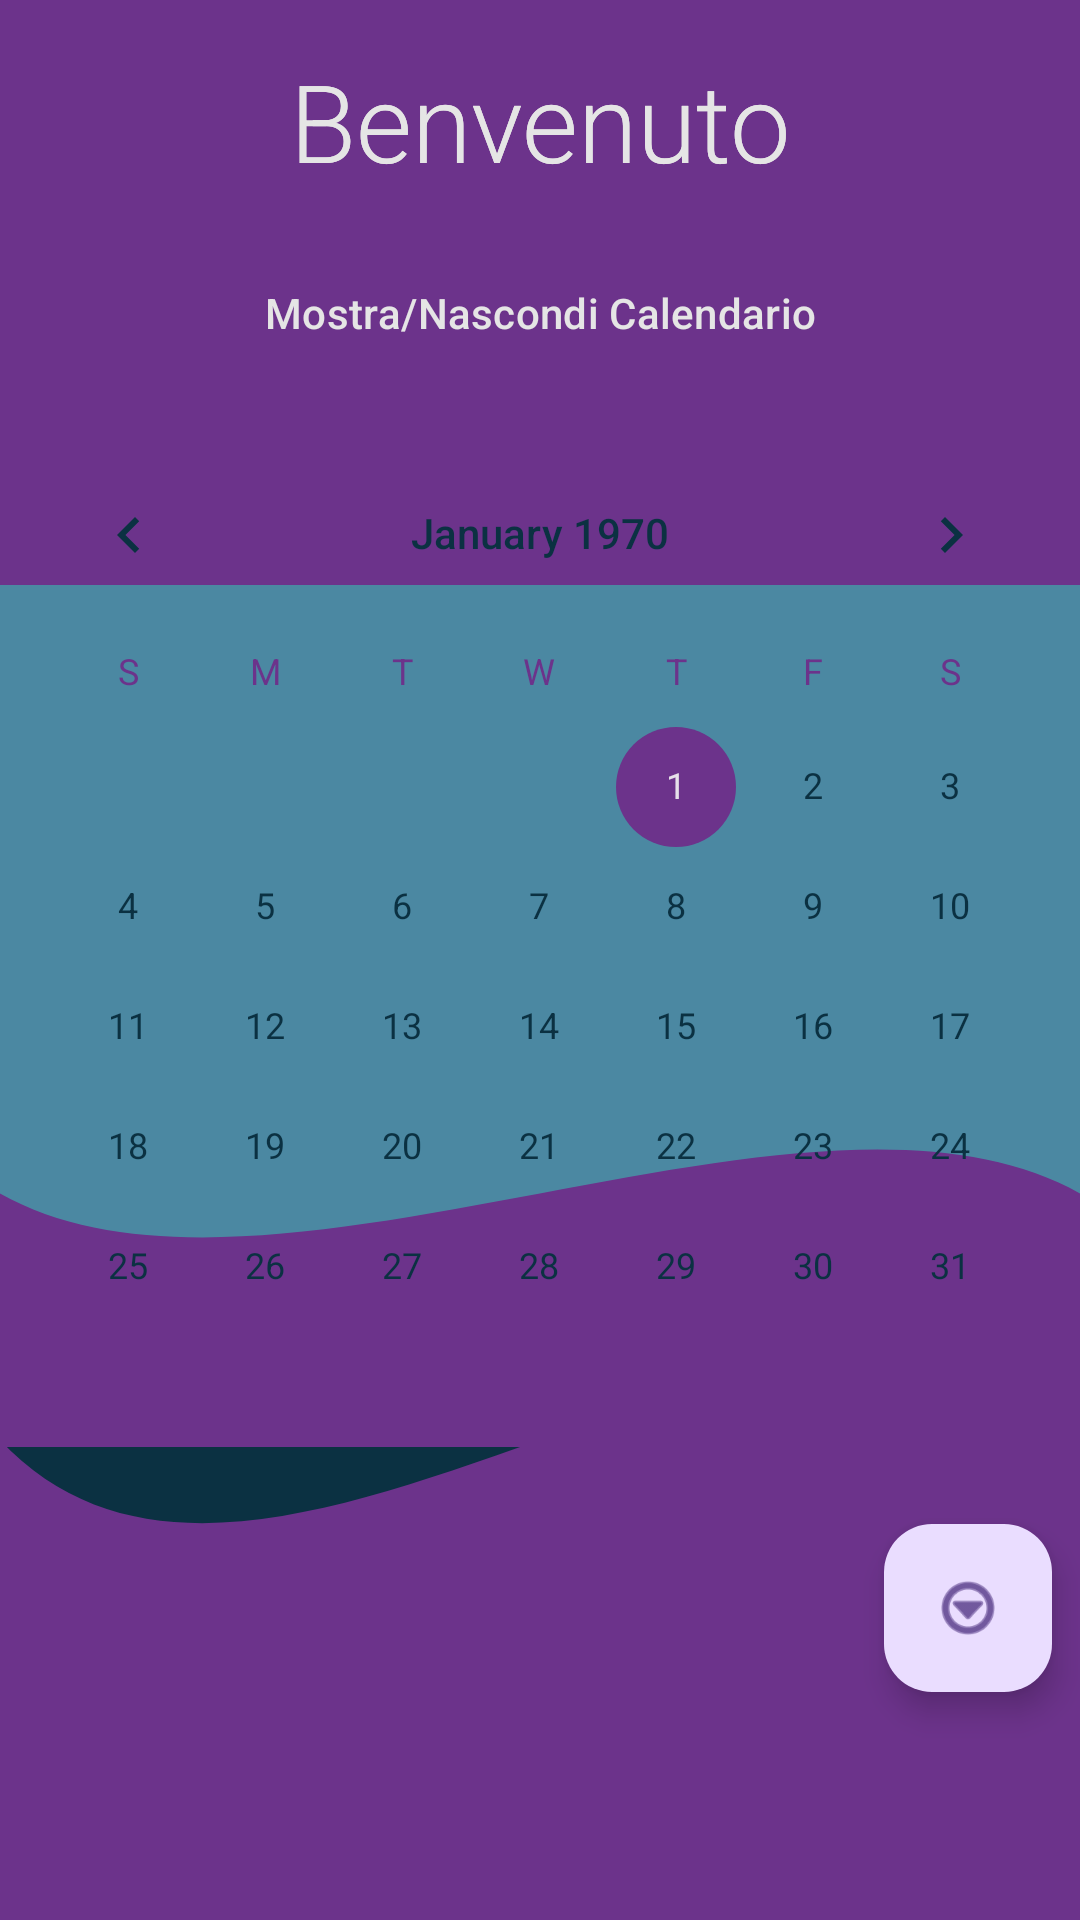

Named icons in this screenshot (1080 × 1920) and their bounding boxes, (x1, y1, x2, y2):
more: (884, 1524, 1052, 1692)
